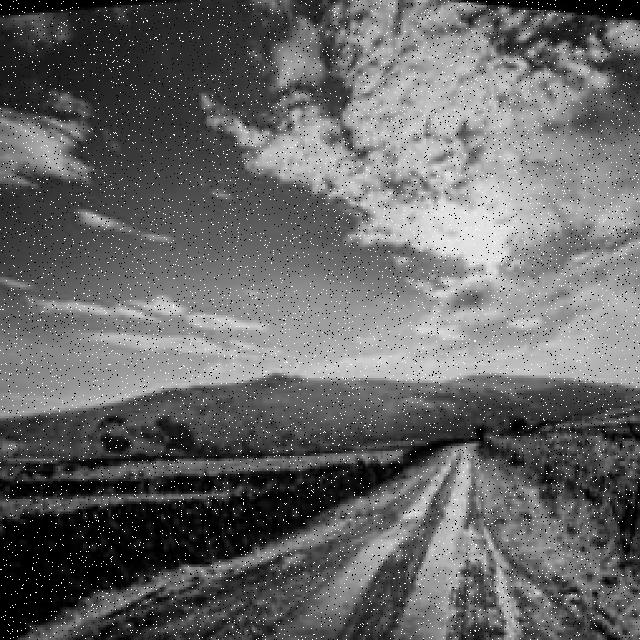ice-road: (21, 446, 613, 640)
